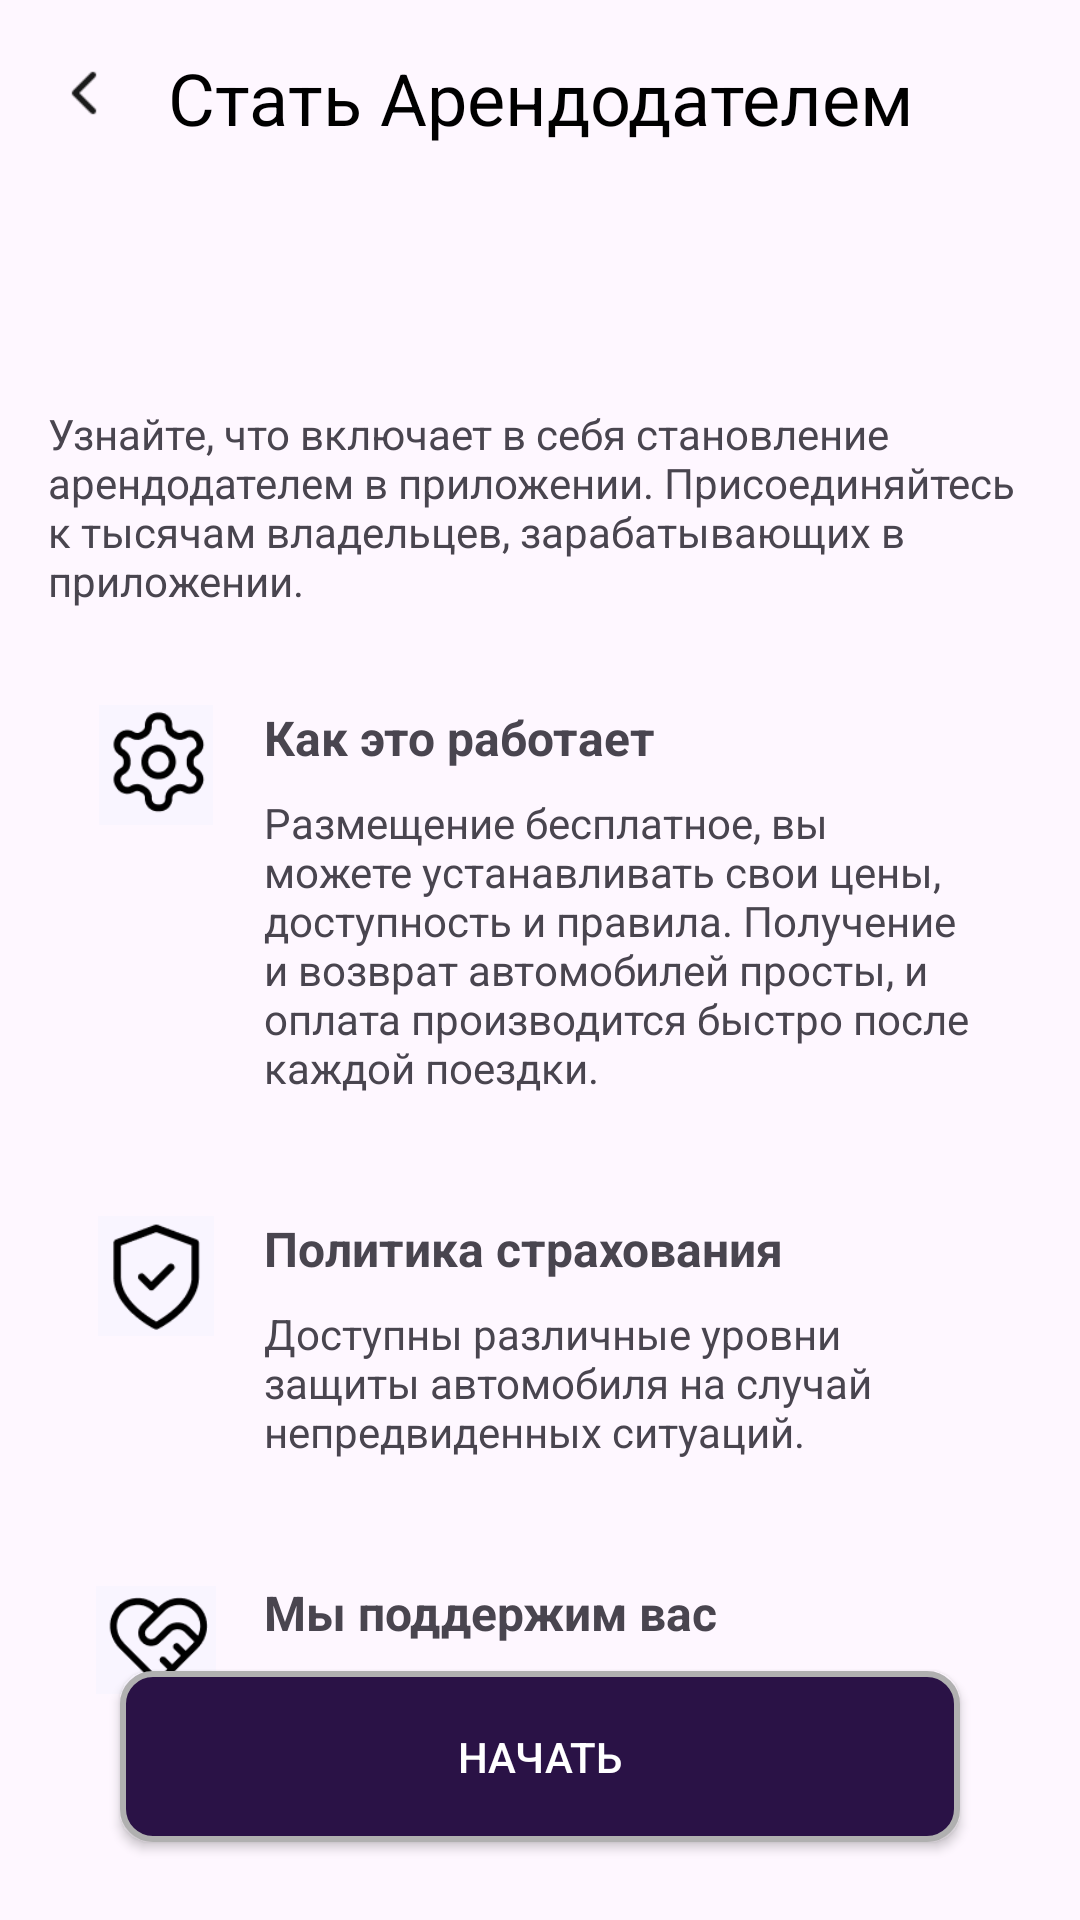

Where icons sit on this 1080px×1920px app screen, as region(x1, y1, x2, y2):
cog: region(113, 712, 204, 812)
shield: region(113, 1224, 200, 1330)
